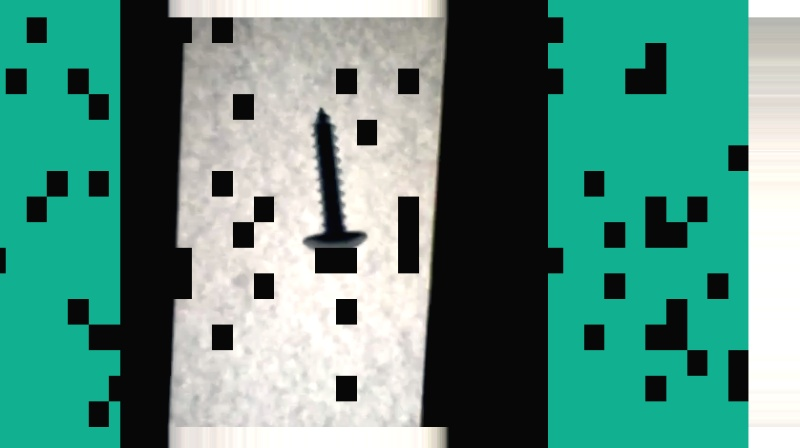S003: (296, 103, 370, 256)
